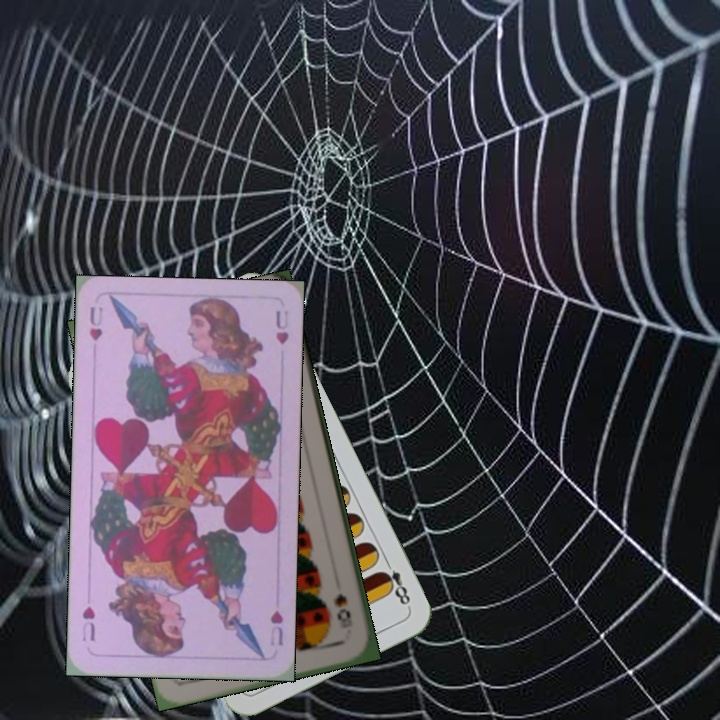E8: (376, 555, 414, 611)
HU: (85, 302, 106, 344), (266, 606, 286, 648)
S8: (330, 589, 355, 631)
